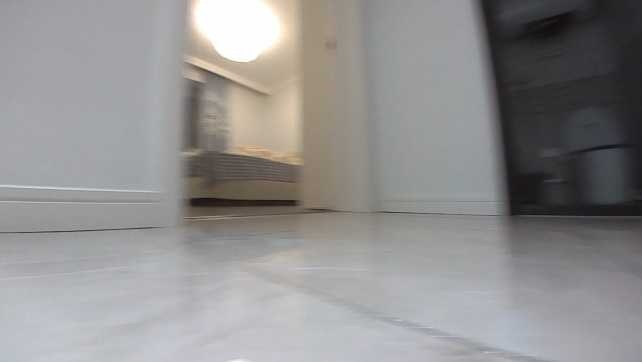bed1: (185, 138, 302, 205)
toilet: (561, 103, 628, 205)
